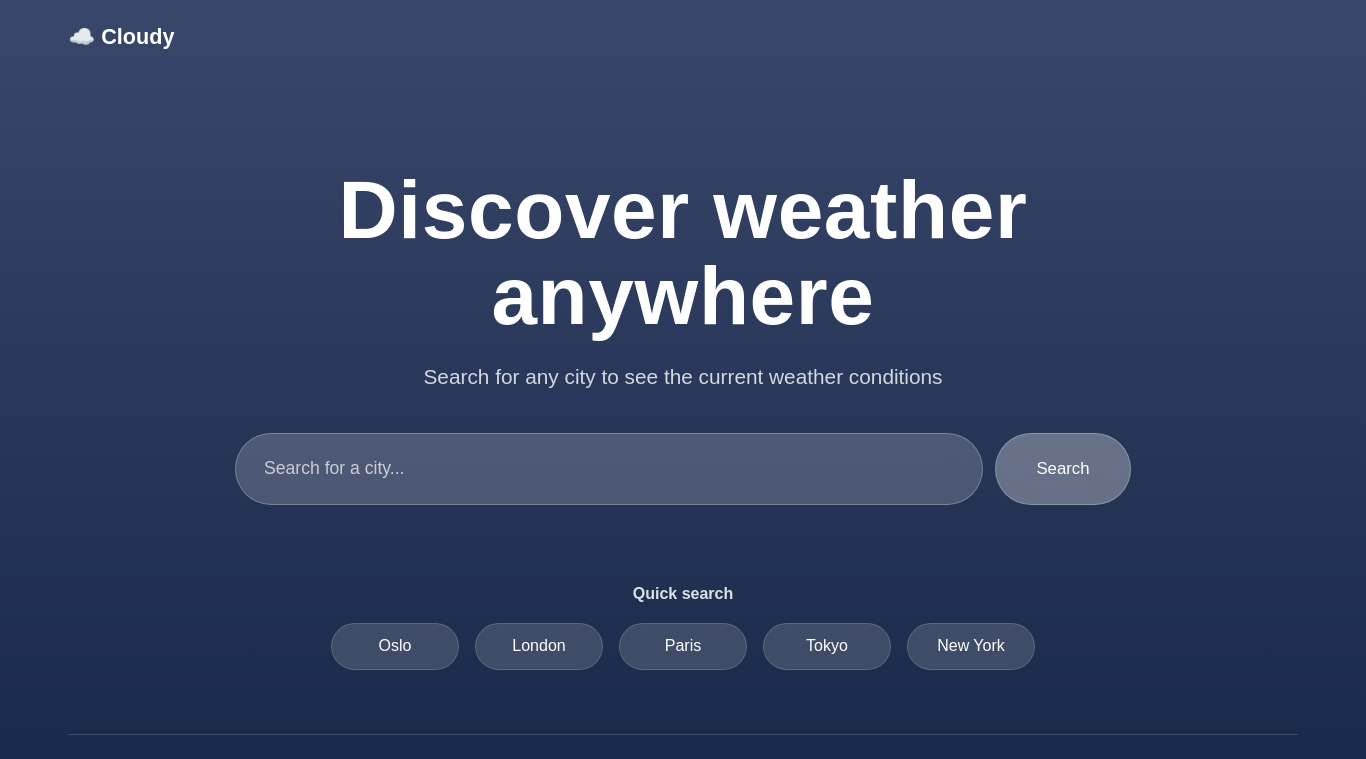
Test: App › shows a city-not-found message
Type "Not a city" into the dropdown at [609, 469], box [235,433,983,505]
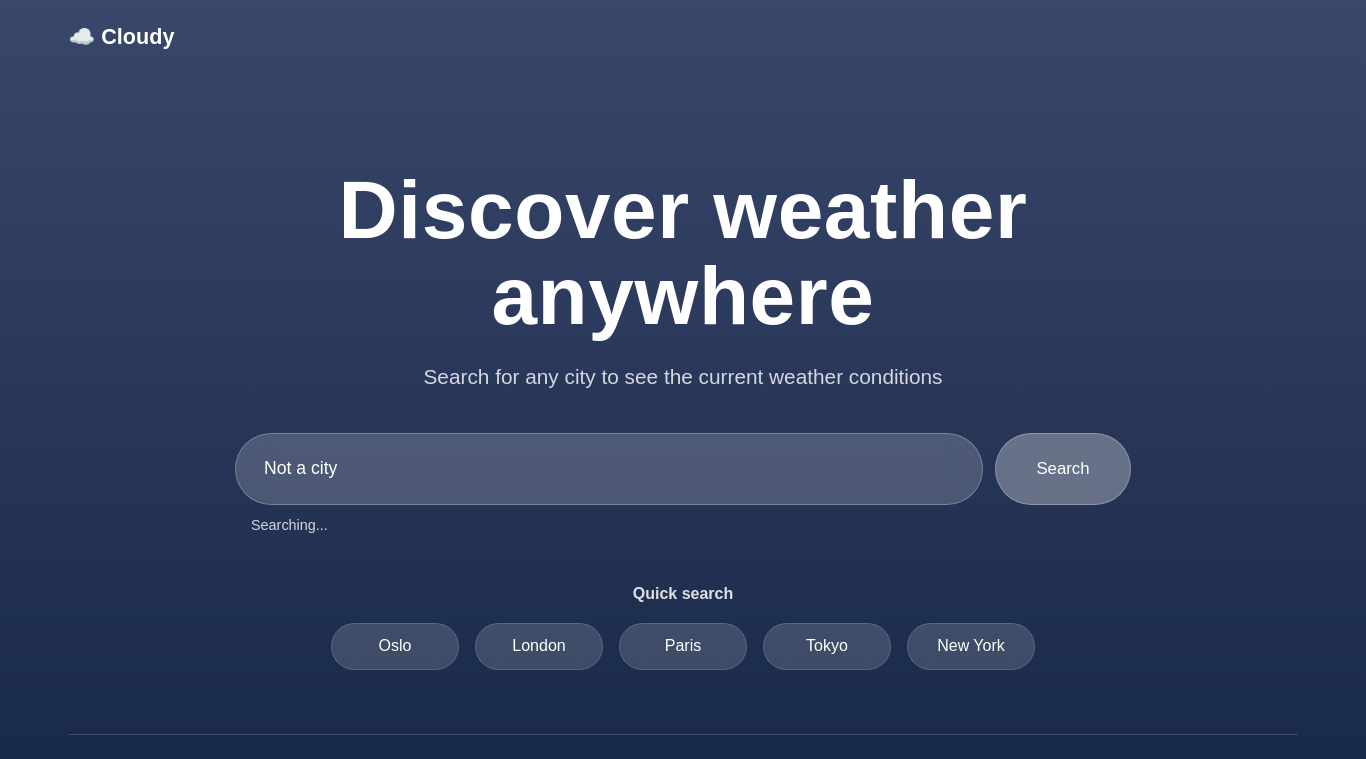
Click the button "Search" at [1063, 469], box [995,433,1131,505]
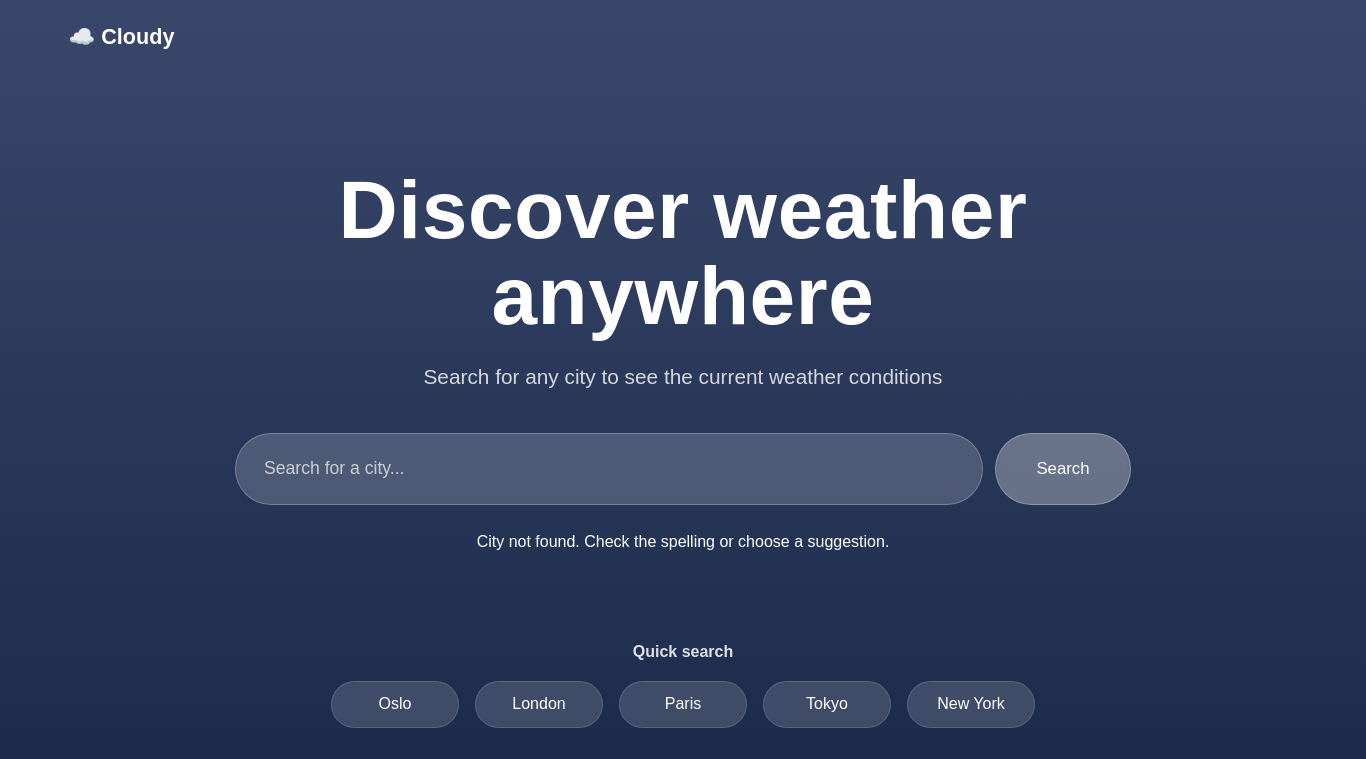
Expected: the message reads "City not found. Check the spelling or choose a suggestion.", [477,533,889,550]
